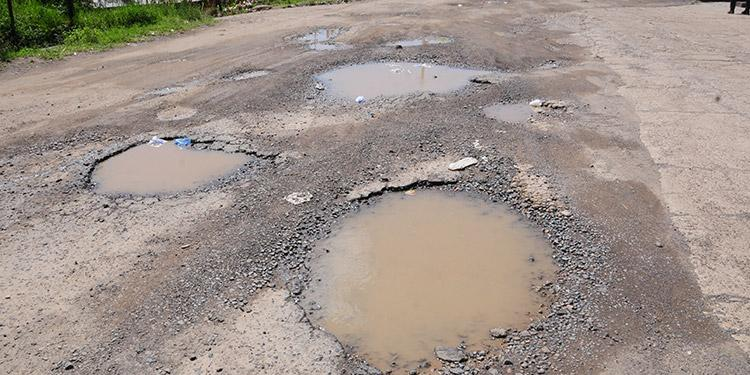pothole: (274, 149, 608, 375), (68, 124, 290, 214), (311, 32, 532, 110), (142, 96, 234, 130), (282, 29, 351, 56), (217, 54, 277, 83), (133, 75, 191, 100)
